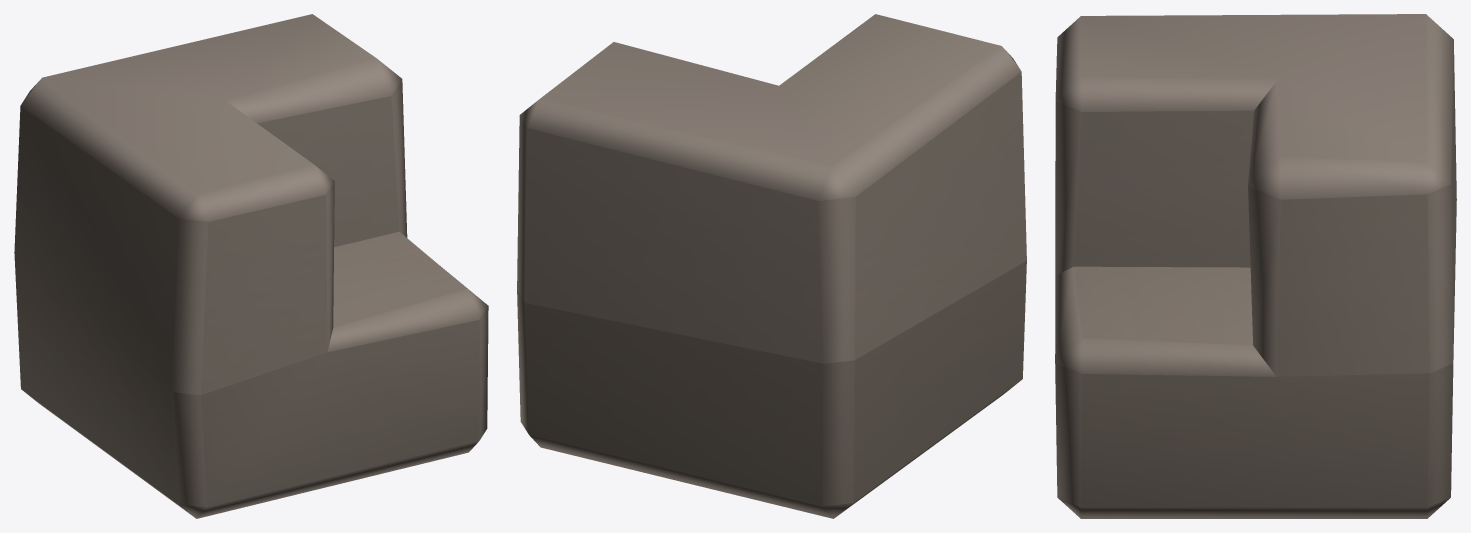
Rendered from elf_stair_corner_conc_shade_4.fbx.
3 views of the same model, side by side, from view 1: azimuth 30°, elevation 25°; view 2: azimuth 150°, elevation 25°; view 3: azimuth 270°, elevation 25° (orthographic). The views are drawn at different scales.
Parts seen in each view (by area): view 1: elf_stair_corner_conc_shade_4; view 2: elf_stair_corner_conc_shade_4; view 3: elf_stair_corner_conc_shade_4.
Boxes of the visible parts, x1,y1,x2,y2 form: elf_stair_corner_conc_shade_4: (14,14,488,518); elf_stair_corner_conc_shade_4: (517,14,1026,518); elf_stair_corner_conc_shade_4: (1055,14,1456,518).
Bounding box in the file's own units: 52.26 × 50.74 × 51.02.
